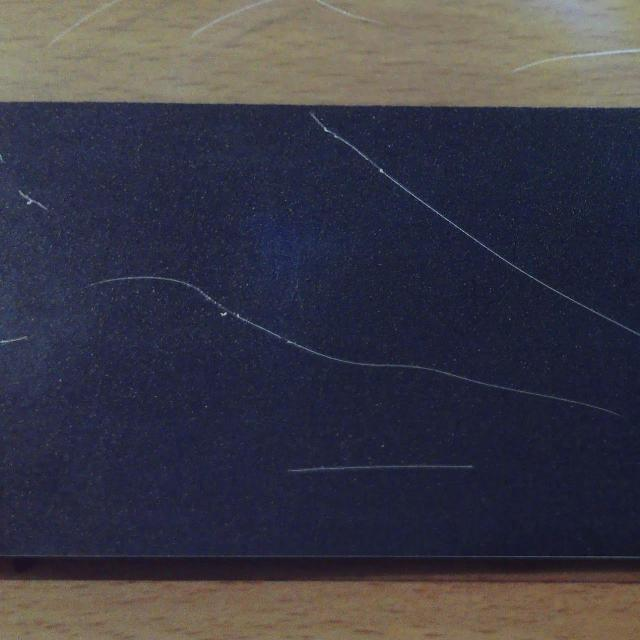defect: (91, 276, 625, 419), (310, 110, 640, 338), (286, 461, 476, 478), (15, 184, 55, 215), (0, 326, 31, 354)
